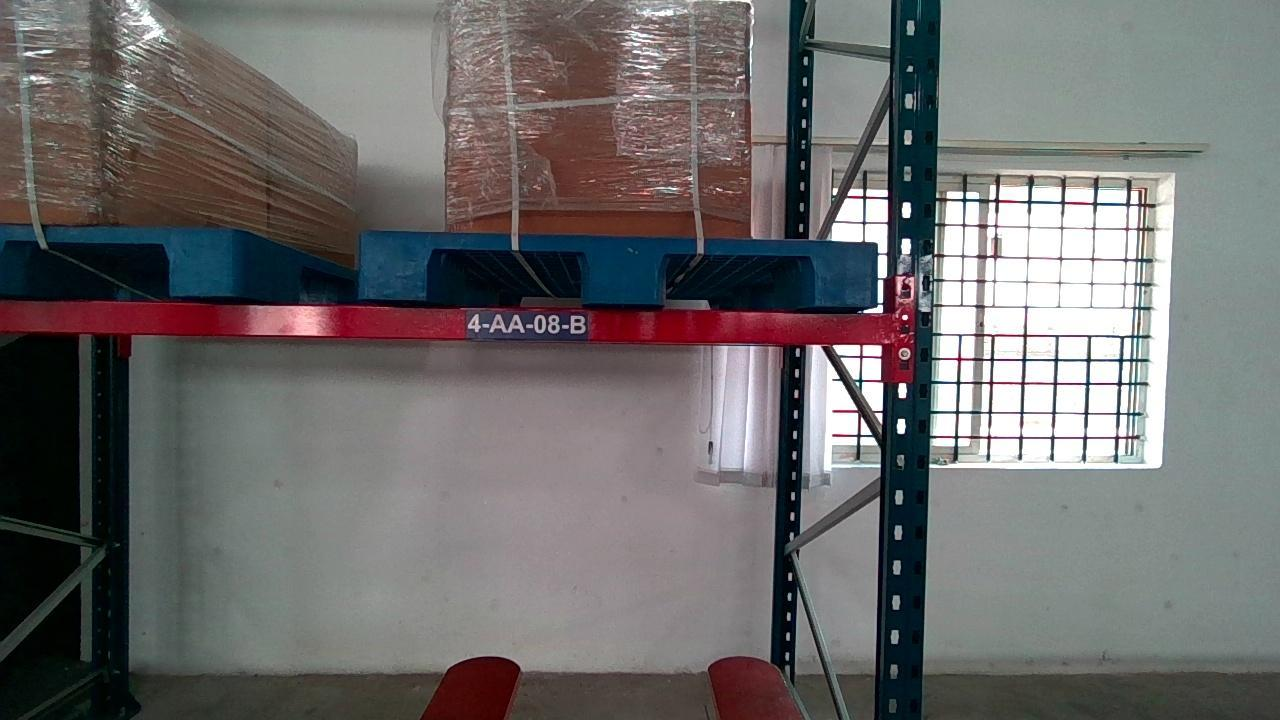h_rack: (0, 297, 894, 340)
small_pallet: (360, 229, 875, 302), (2, 221, 237, 300)
